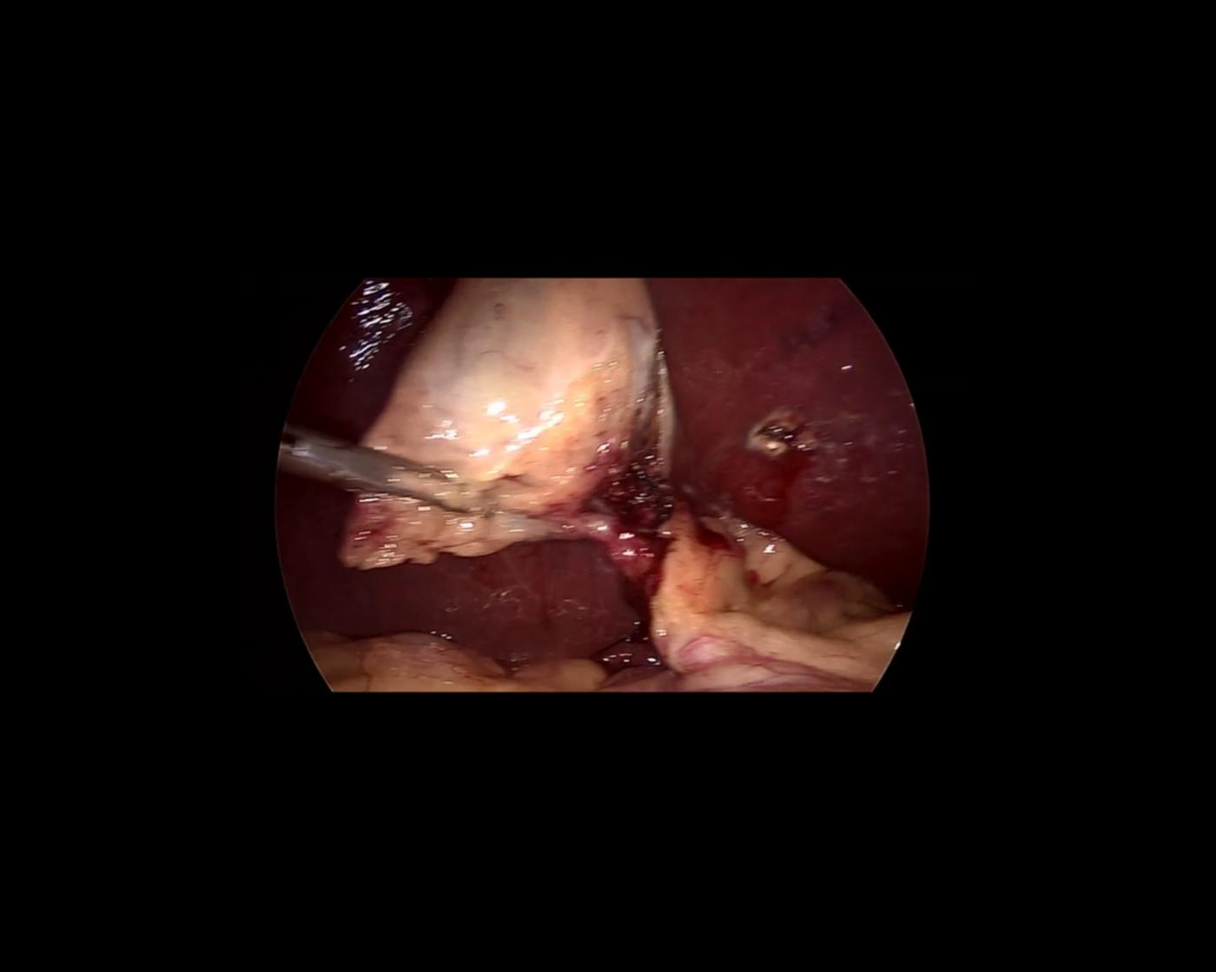Forceps: (272, 420, 483, 535)
Gallbladder: (338, 278, 670, 569)
Liver: (163, 243, 676, 817), (646, 265, 932, 621)
